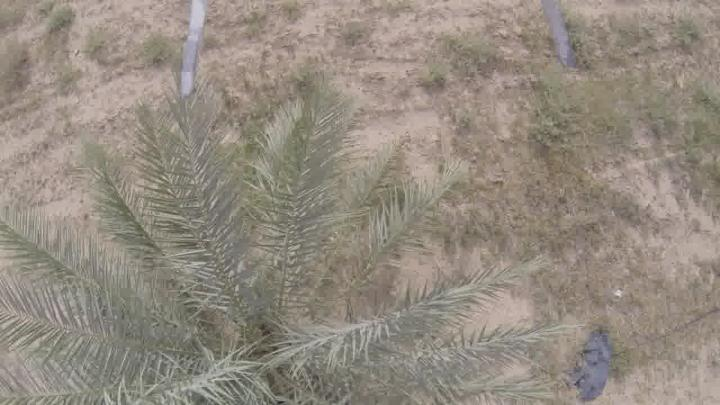Date-Palm-Crown: (81, 240, 362, 404)
